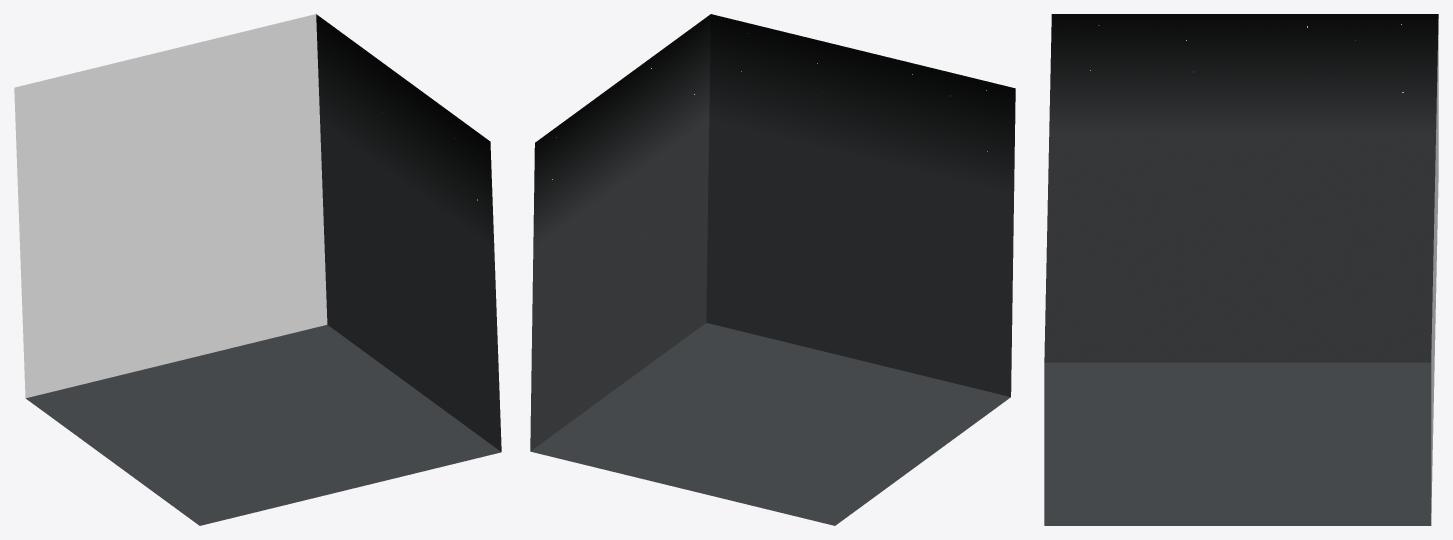
File: skybox.glb
The picture shows the model from 3 angles, left to right: view 1: azimuth 30°, elevation 25°; view 2: azimuth 150°, elevation 25°; view 3: azimuth 270°, elevation 25°; orthographic projection. The views are drawn at different scales.
Visible parts, largest first — view 1: sky; view 2: sky; view 3: sky.
Boxes of the visible parts, x1,y1,x2,y2 form: sky: [14, 14, 501, 525]; sky: [530, 14, 1015, 525]; sky: [1044, 14, 1438, 525].
Bounding box in the file's own units: 16.38 × 15.67 × 16.26.
6 materials, 5 textured.
